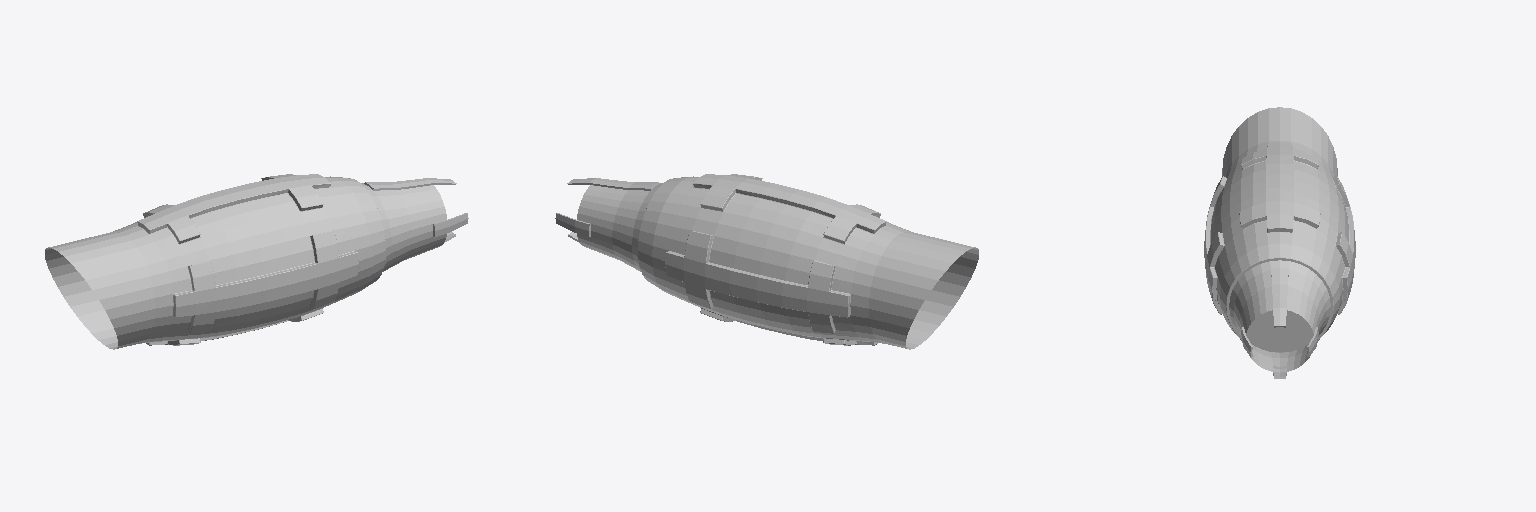
Rendered from laser.obj.
The picture shows the model from 3 angles: view 1: azimuth 30°, elevation 25°; view 2: azimuth 150°, elevation 25°; view 3: azimuth 270°, elevation 25°; orthographic projection.
Parts seen in each view (by area): view 1: Laser_Cylinder, Laser_mouth_Cylinder.001; view 2: Laser_Cylinder, Laser_mouth_Cylinder.001; view 3: Laser_Cylinder, Laser_mouth_Cylinder.001.
Boxes of the visible parts, <box> form: Laser_Cylinder: <box>45,174,385,349</box>; Laser_mouth_Cylinder.001: <box>361,178,468,271</box>; Laser_Cylinder: <box>638,174,978,349</box>; Laser_mouth_Cylinder.001: <box>555,178,662,271</box>; Laser_Cylinder: <box>1204,107,1355,352</box>; Laser_mouth_Cylinder.001: <box>1229,260,1330,378</box>.
Size of the model in its own units: 22.5 by 7.46 by 7.46.